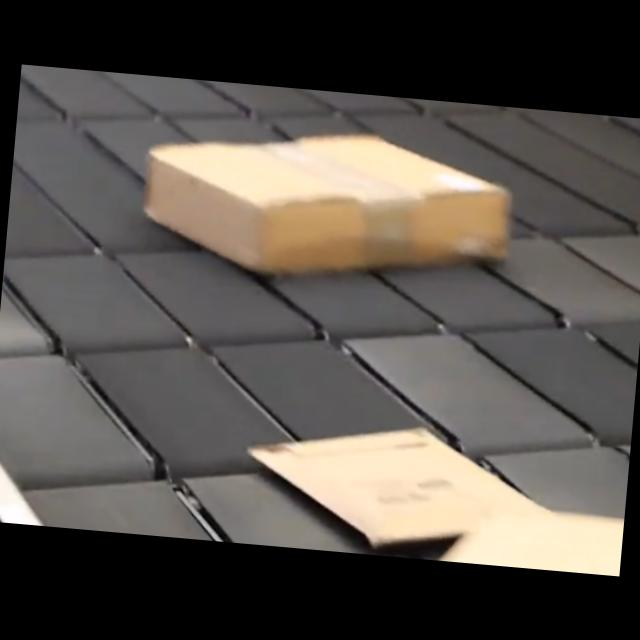box: (137, 114, 516, 292)
mailer: (240, 414, 551, 564)
